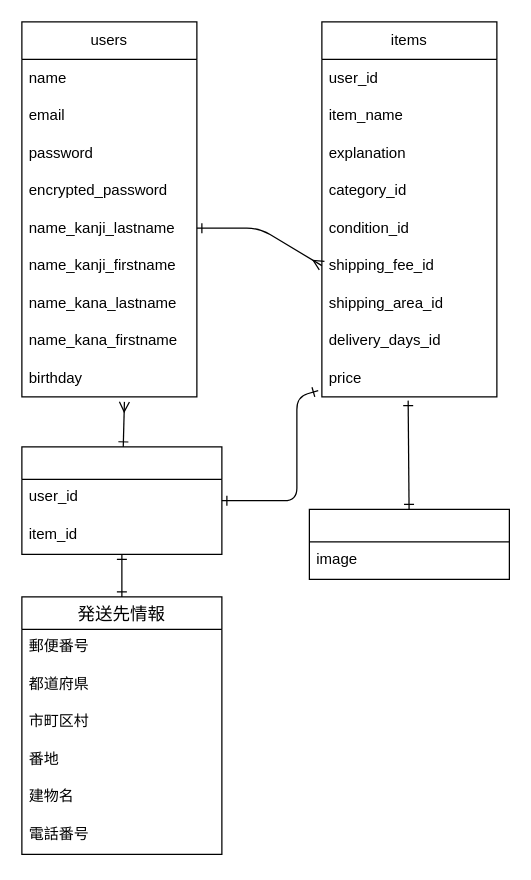
Some shapes in this 531 by 880 pixel diagram are drawn without their labels. The box of each missing label's shape, as (x1, y1, x2, y2) in pixels:
images: (308, 508, 509, 579)
orders: (21, 446, 222, 554)
